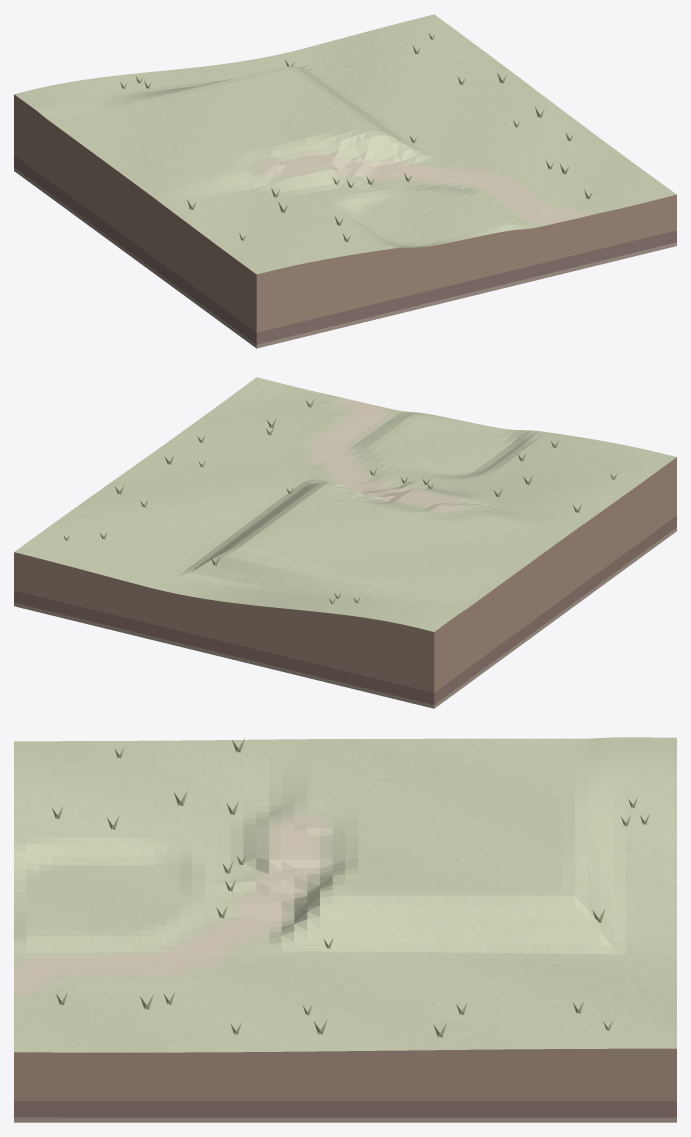
The picture shows the model from 3 angles, top to bottom: view 1: azimuth 30°, elevation 25°; view 2: azimuth 150°, elevation 25°; view 3: azimuth 270°, elevation 25°; orthographic projection. The views are drawn at different scales.
Parts seen in each view (by area): view 1: proc_ground, proc_skirt, proc_grass; view 2: proc_ground, proc_skirt, proc_grass; view 3: proc_ground, proc_skirt, proc_grass.
Boxes of the visible parts, x1,y1,x2,y2 form: proc_ground: [14, 14, 676, 274]; proc_skirt: [14, 94, 676, 348]; proc_grass: [120, 33, 592, 241]; proc_ground: [14, 377, 676, 631]; proc_skirt: [14, 457, 676, 708]; proc_grass: [63, 399, 617, 603]; proc_ground: [14, 737, 676, 1052]; proc_skirt: [14, 1048, 676, 1122]; proc_grass: [52, 738, 649, 1037].
Size of the model in its own units: 8 by 1.53 by 8.
